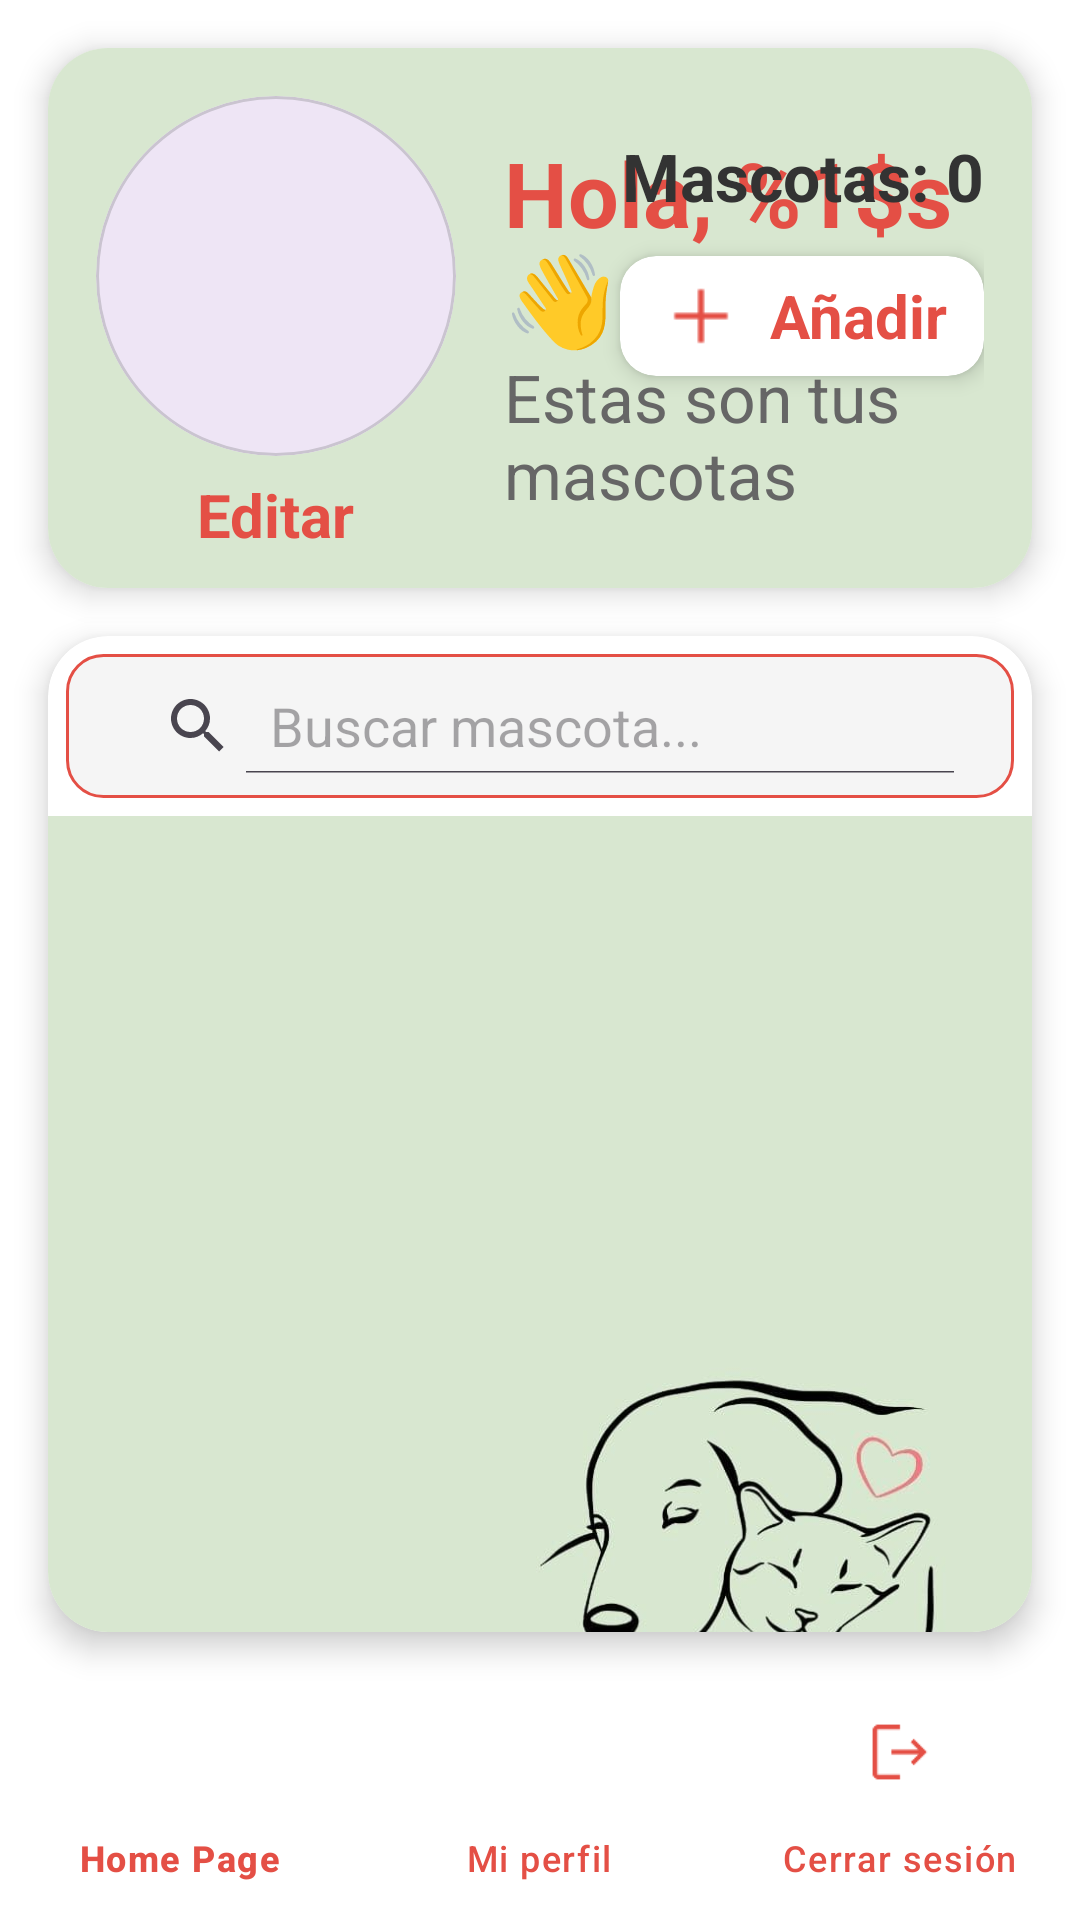

Icons on this 1080*1920 Android screen, each with its box as (x1, y1, x2, y2):
add: (673, 288, 729, 344)
